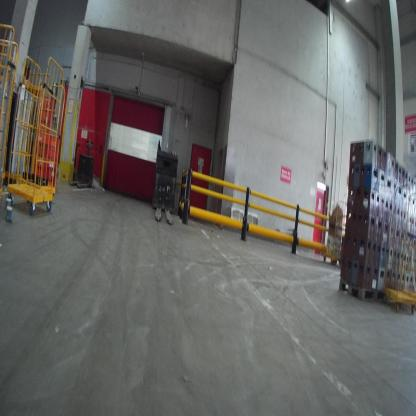pallet: (337, 274, 388, 304)
pallet_truck: (149, 138, 181, 229), (70, 135, 105, 194)
